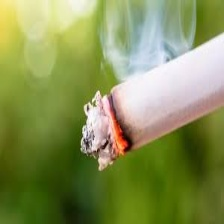smoke: (72, 2, 187, 81)
